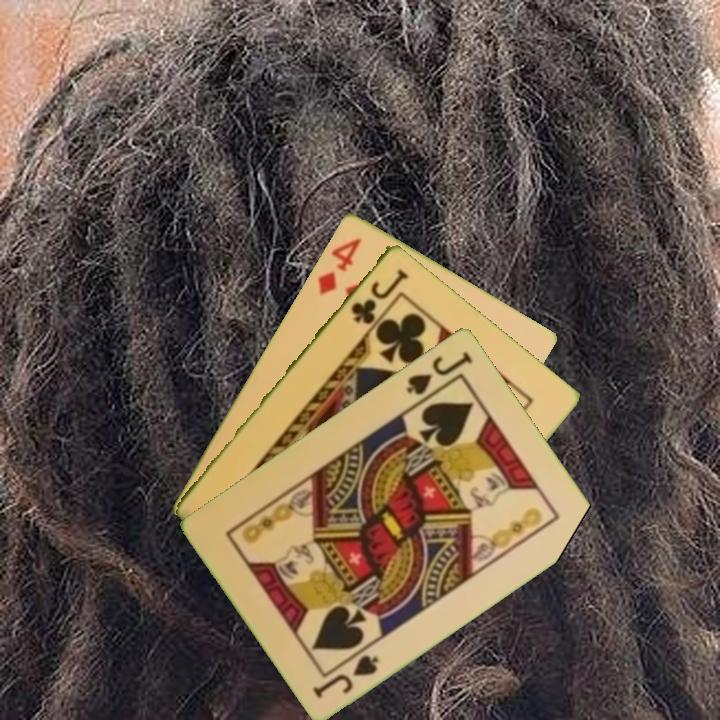4d: (314, 233, 364, 298)
Jc: (347, 265, 411, 327)
Js: (403, 347, 476, 398), (309, 650, 382, 701)
